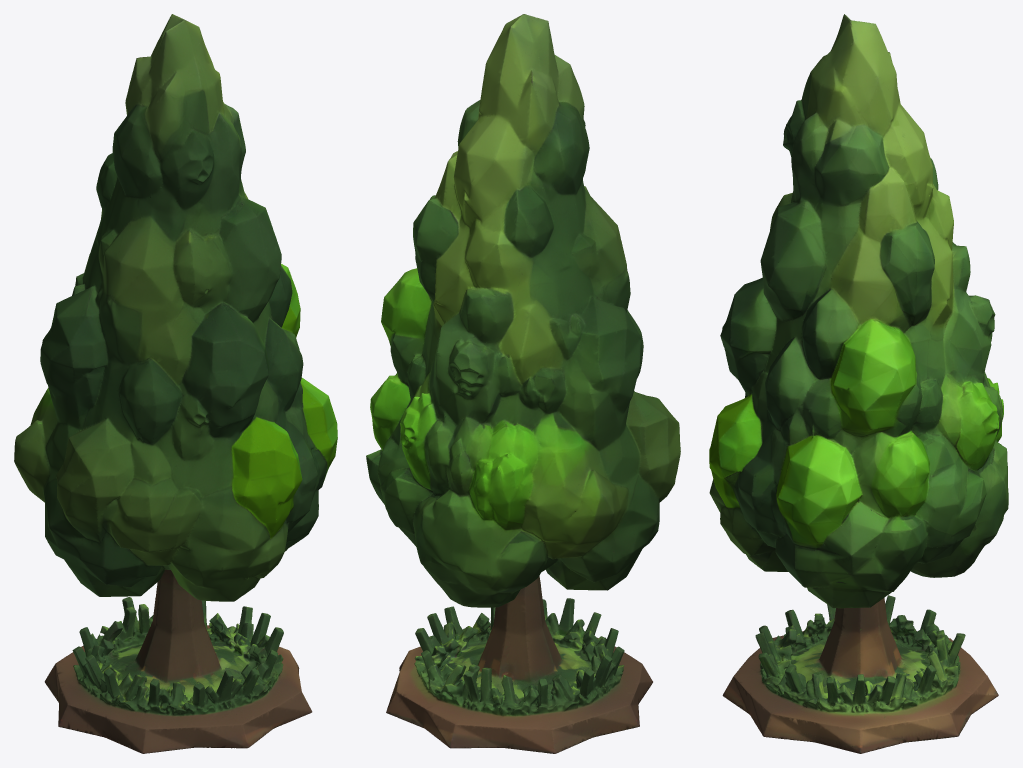
The model's file is Meshy_AI_arbre_0309132215_texture.glb.
3 views of the same model, side by side, from view 1: azimuth 30°, elevation 25°; view 2: azimuth 150°, elevation 25°; view 3: azimuth 270°, elevation 25° (orthographic).
Size of the model in its own units: 0.7886 by 1.9 by 0.7623.
1 material, 1 textured.
